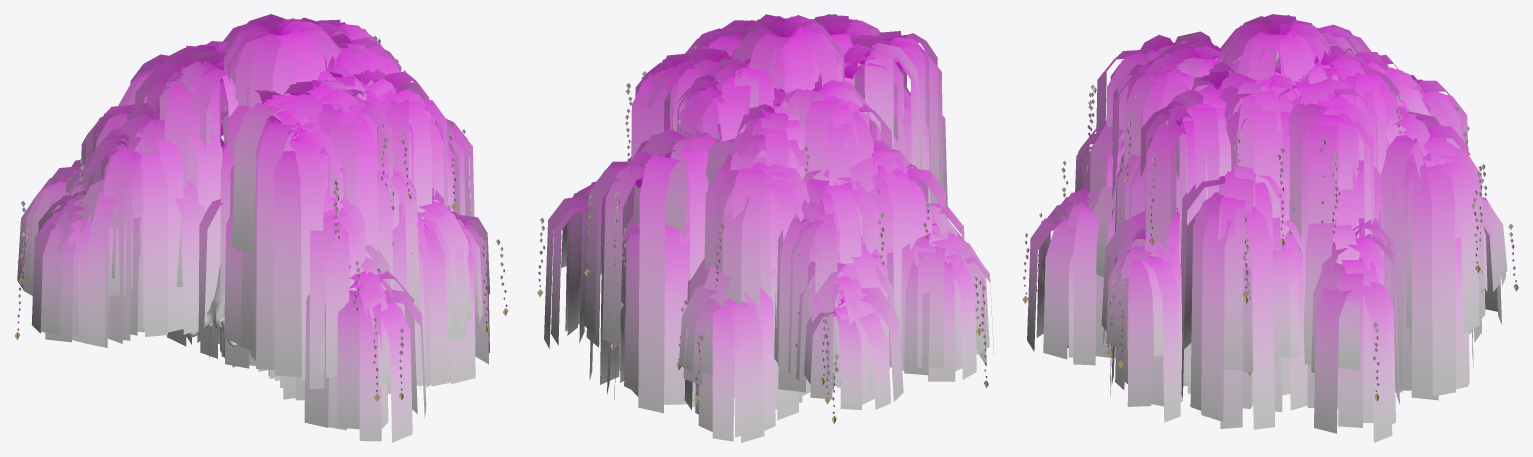
The model's file is tree_weeping_lady_a.glb.
The picture shows the model from 3 angles, left to right: view 1: azimuth 30°, elevation 25°; view 2: azimuth 150°, elevation 25°; view 3: azimuth 270°, elevation 25°; orthographic projection.
Parts seen in each view (by area): view 1: tree_weeping_lady_a; view 2: tree_weeping_lady_a; view 3: tree_weeping_lady_a.
Boxes of the visible parts, x1,y1,x2,y2 form: tree_weeping_lady_a: [14, 14, 508, 442]; tree_weeping_lady_a: [537, 14, 993, 442]; tree_weeping_lady_a: [1022, 14, 1518, 442].
Bounding box in the file's own units: 58.97 × 42.19 × 58.88.
